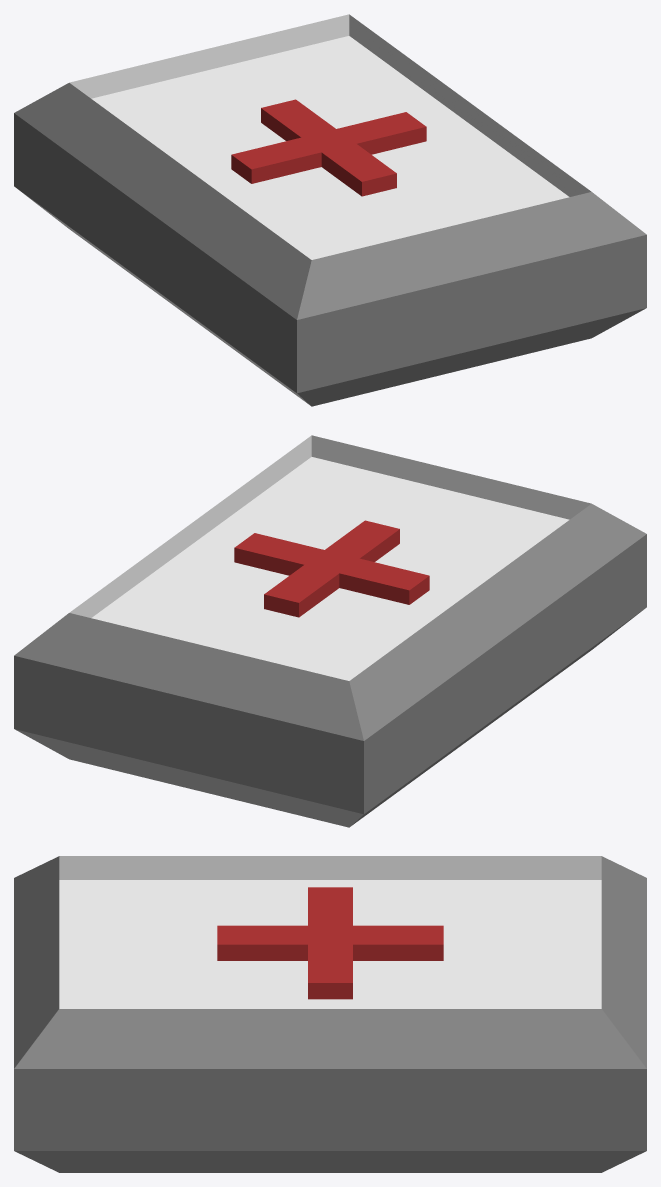
The model's file is Health_Pack.fbx.
3 views of the same model, one above another, from view 1: azimuth 30°, elevation 25°; view 2: azimuth 150°, elevation 25°; view 3: azimuth 270°, elevation 25° (orthographic). The views are drawn at different scales.
Visible parts, largest first — view 1: pCube5; view 2: pCube5; view 3: pCube5.
Part boxes in pixels (x1,y1,x2,y2): pCube5: (14,14,646,406); pCube5: (14,435,646,827); pCube5: (14,856,646,1172).
Size of the model in its own units: 18.48 by 7.39 by 25.87.
